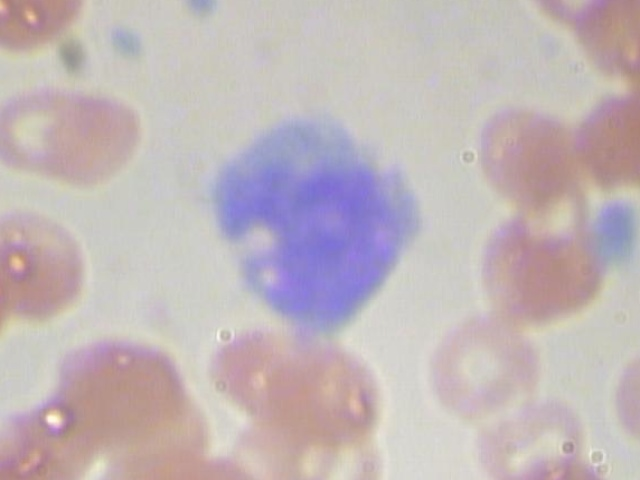Platelets: (103, 15, 155, 62), (596, 197, 640, 243), (171, 0, 223, 22)
RBC: (189, 319, 331, 450), (275, 328, 417, 459), (463, 203, 614, 324), (434, 86, 585, 207), (33, 81, 184, 202), (57, 317, 183, 448), (421, 312, 545, 435), (0, 194, 110, 325), (471, 373, 595, 480), (0, 71, 114, 179), (267, 407, 407, 480), (562, 83, 640, 200), (0, 0, 100, 62), (600, 329, 640, 452)
WBC: (189, 96, 431, 341)
